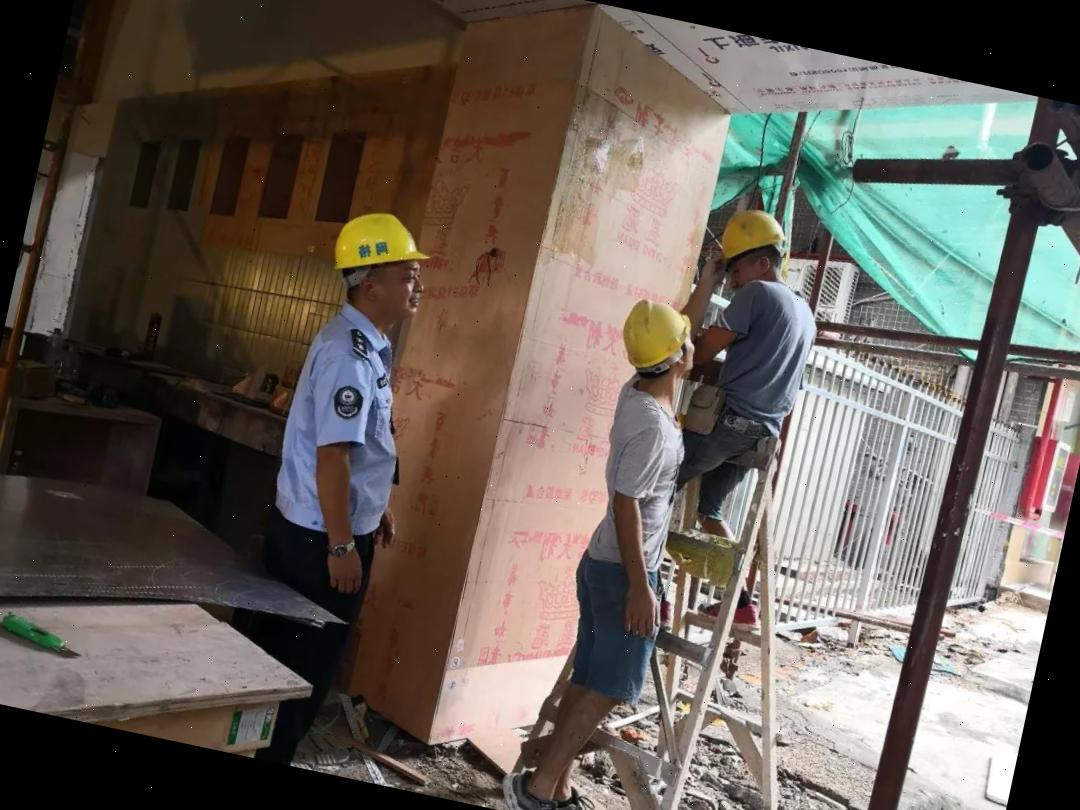helmet: (319, 198, 445, 298), (612, 287, 704, 390), (709, 198, 794, 282)
no_wear: (580, 387, 694, 580), (704, 275, 827, 434)
wear: (267, 314, 414, 551)
